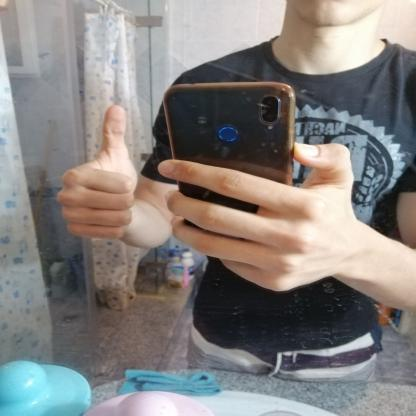ALIF: (47, 98, 153, 248)
